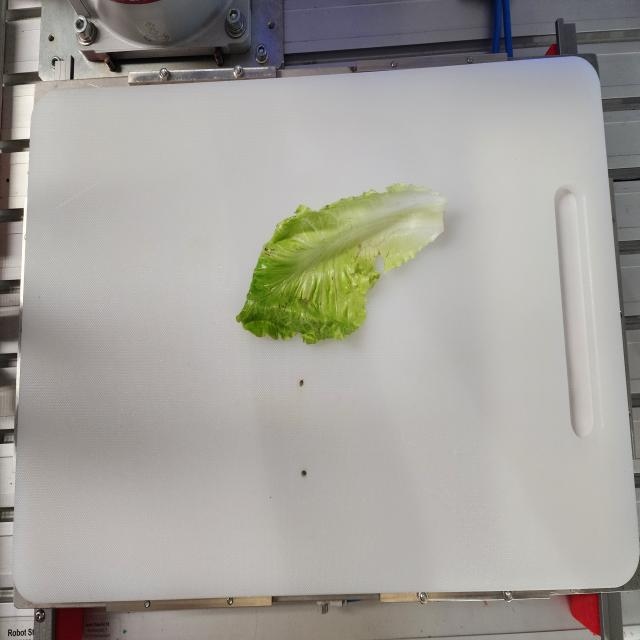lettuce: (235, 180, 448, 344)
